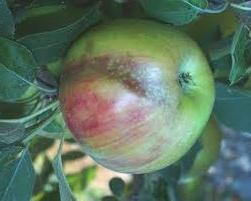rotten apple: (51, 19, 216, 174)
